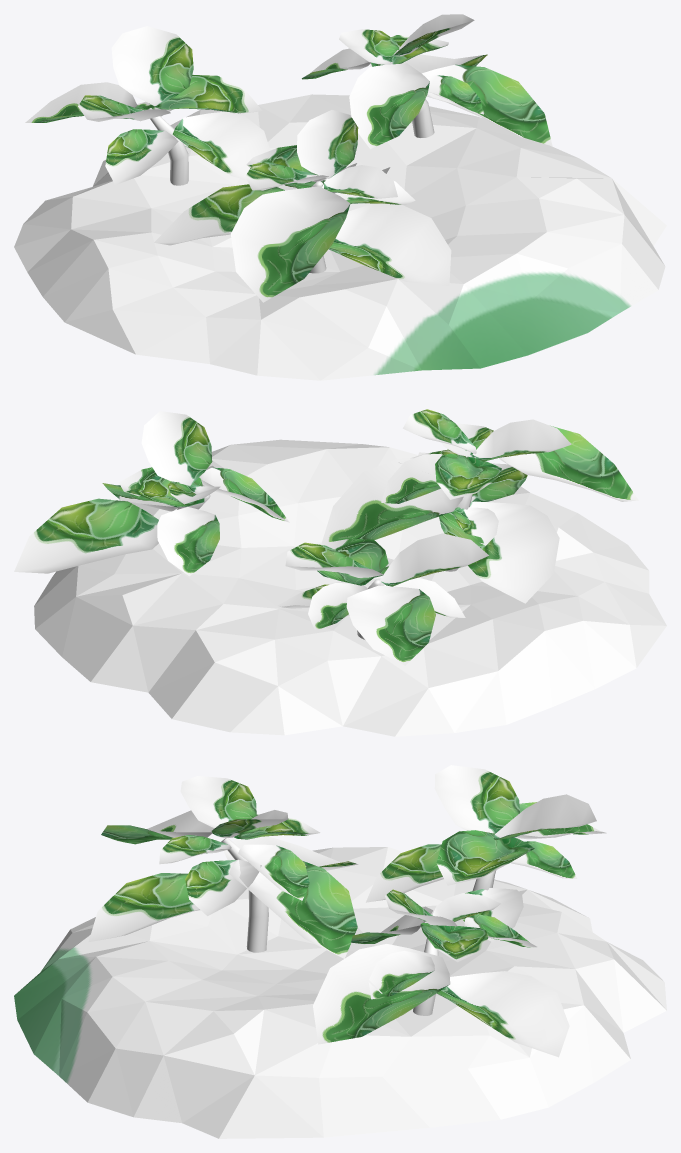
Rendered from Cabbage3.fbx.
3 renders of one model, top to bottom at view 1: azimuth 30°, elevation 25°; view 2: azimuth 150°, elevation 25°; view 3: azimuth 270°, elevation 25°, orthographic. The views are drawn at different scales.
Visible parts, largest first — view 1: 3; view 2: 3; view 3: 3.
Boxes of the visible parts, x1=… form: 3: x1=14, y1=14, x2=666, y2=380; 3: x1=14, y1=409, x2=666, y2=736; 3: x1=14, y1=765, x2=666, y2=1138.
Bounding box in the file's own units: 189 × 56.33 × 189.
